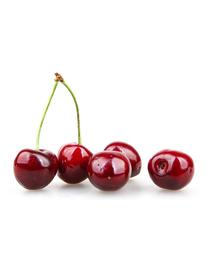cherry: (146, 148, 194, 191), (14, 148, 59, 192), (86, 151, 131, 192), (104, 141, 141, 181), (57, 144, 93, 185)
